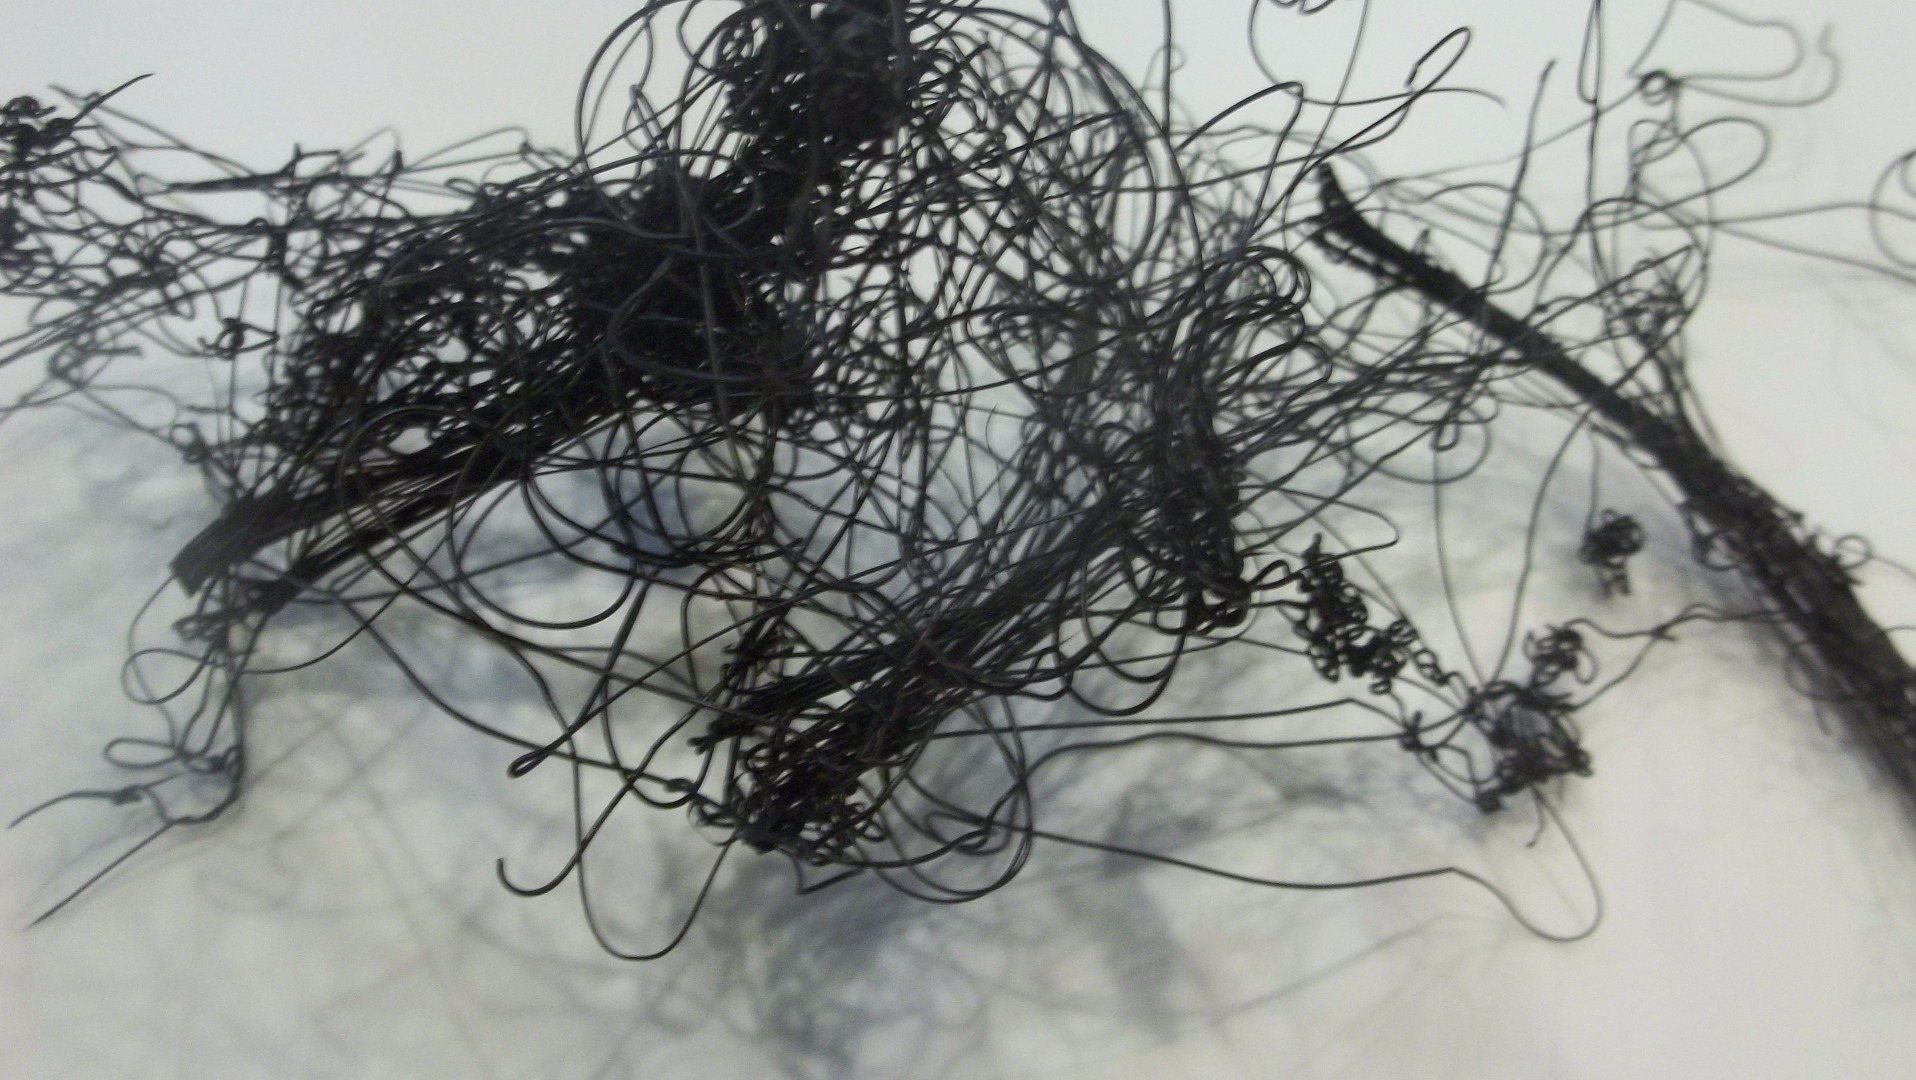fail: (142, 3, 1270, 970), (1244, 9, 1916, 945), (3, 87, 468, 435)
